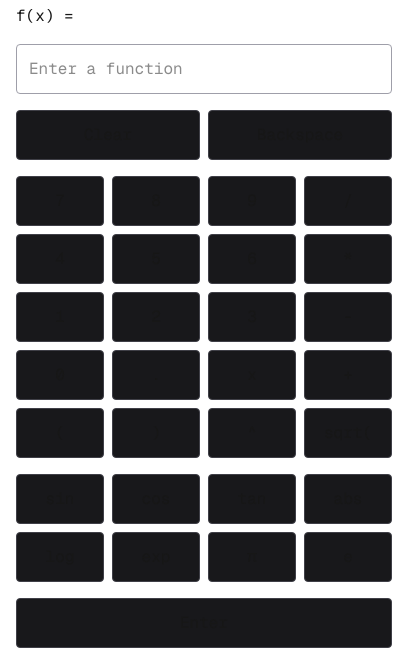
it: FunctionInput Component › calculator buttons insert at cursor position
In the field named "function": [204, 69] box [16, 44, 392, 94], type "x+2"
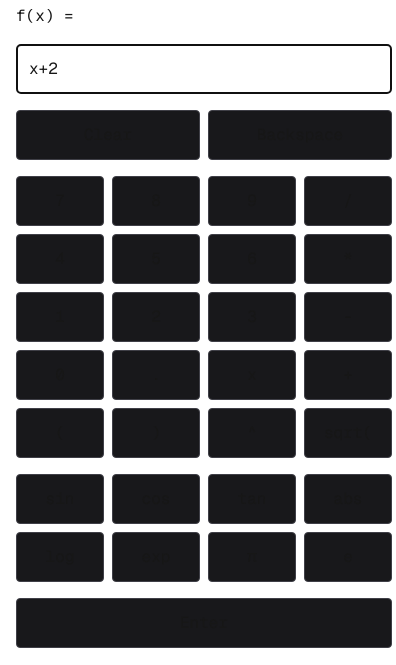
Click the button "3": [252, 317] box [208, 292, 296, 342]
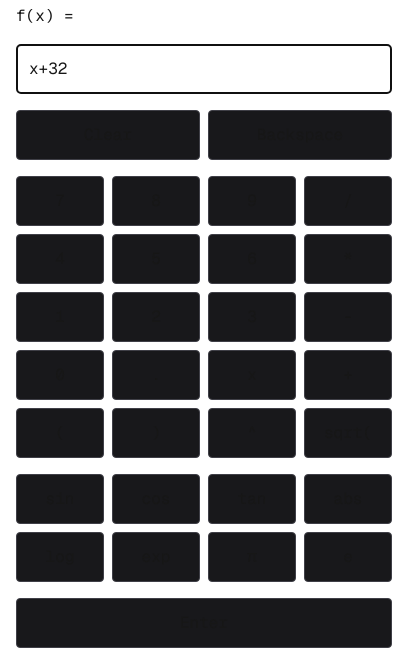
Now the field named "function" holds "x+32", box [16, 44, 392, 94]
